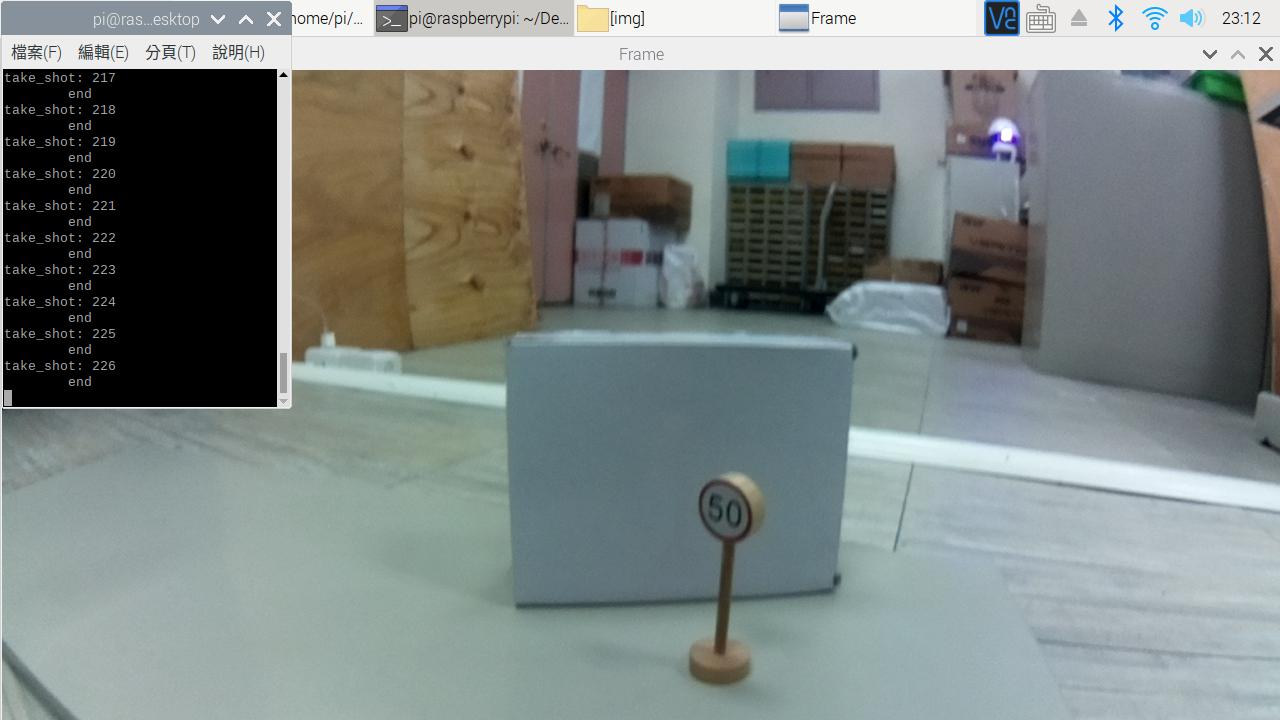Speed50: (677, 453, 779, 581)
